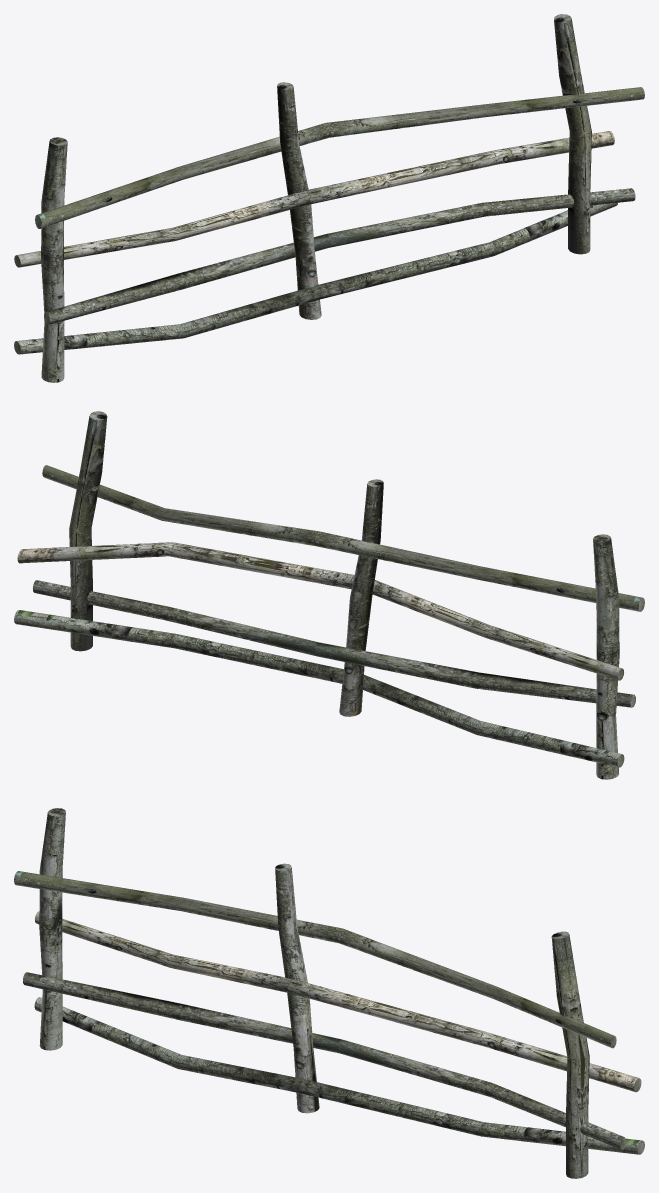
The model's file is fence3.obj.
3 views of the same model, one above another, from view 1: azimuth 30°, elevation 25°; view 2: azimuth 150°, elevation 25°; view 3: azimuth 330°, elevation 25° (orthographic).
Visible parts, largest first — view 1: fence; view 2: fence; view 3: fence.
Part boxes in pixels (<box>): fence: <box>14,14,644,382</box>; fence: <box>14,411,644,779</box>; fence: <box>14,808,644,1178</box>.
Bounding box in the file's own units: 116 × 43.48 × 11.4.
